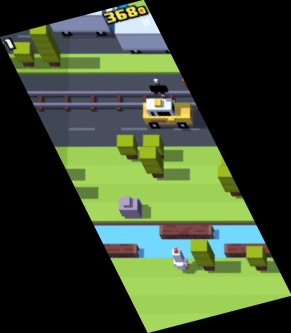car: (142, 97, 195, 129)
light off: (148, 77, 173, 113)
log: (158, 218, 213, 237), (224, 243, 286, 258), (92, 242, 140, 258)
rail: (19, 90, 217, 111)
rock: (118, 196, 141, 218)
tree: (29, 22, 61, 67), (218, 163, 245, 197), (190, 238, 216, 271), (140, 147, 165, 179), (11, 41, 35, 69), (142, 135, 166, 160), (117, 134, 140, 160), (246, 246, 269, 271)
truck: (115, 10, 202, 52), (46, 2, 131, 36)
water: (90, 223, 278, 258)
